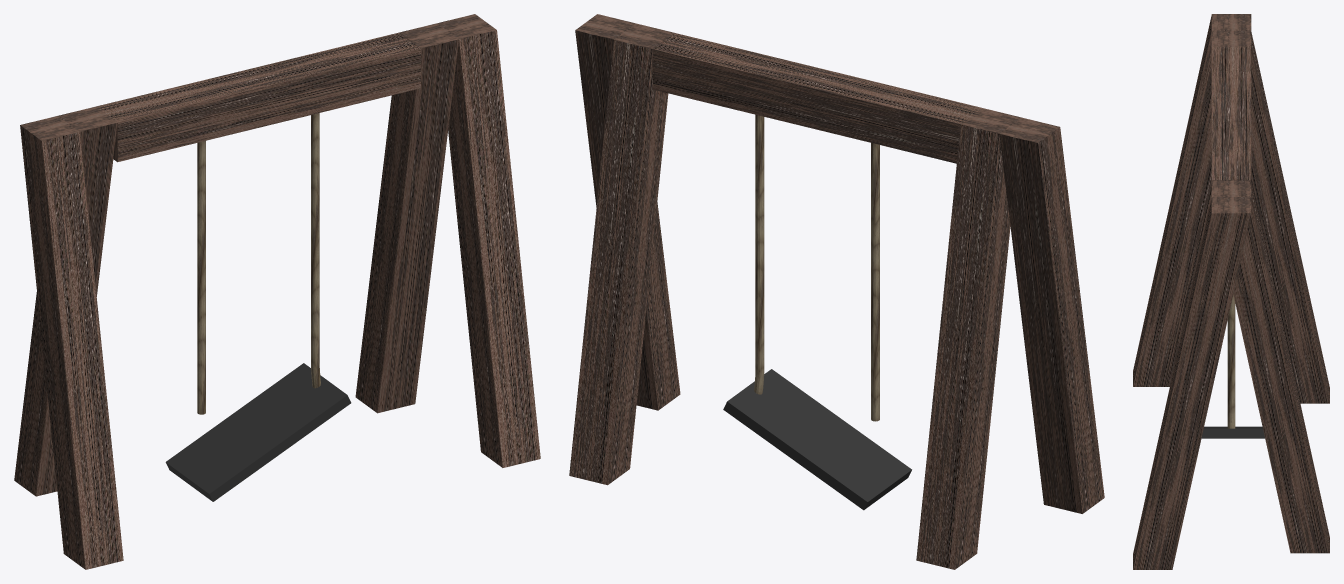
Rendered from swing.fbx.
The picture shows the model from 3 angles, left to right: view 1: azimuth 30°, elevation 25°; view 2: azimuth 150°, elevation 25°; view 3: azimuth 270°, elevation 25°; orthographic projection. The views are drawn at different scales.
Visible parts, largest first — view 1: Swing; view 2: Swing; view 3: Swing.
Boxes of the visible parts, bbox=[...] form: Swing: bbox=[14, 14, 540, 569]; Swing: bbox=[569, 14, 1104, 569]; Swing: bbox=[1133, 14, 1329, 569].
Bounding box in the file's own units: 240 × 200 × 100.
3 materials, 2 textured.
